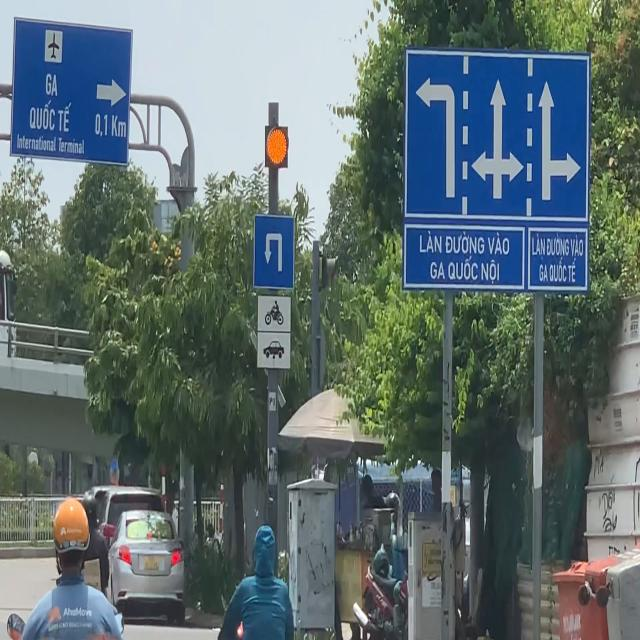Chi dan: (253, 215, 295, 289)
